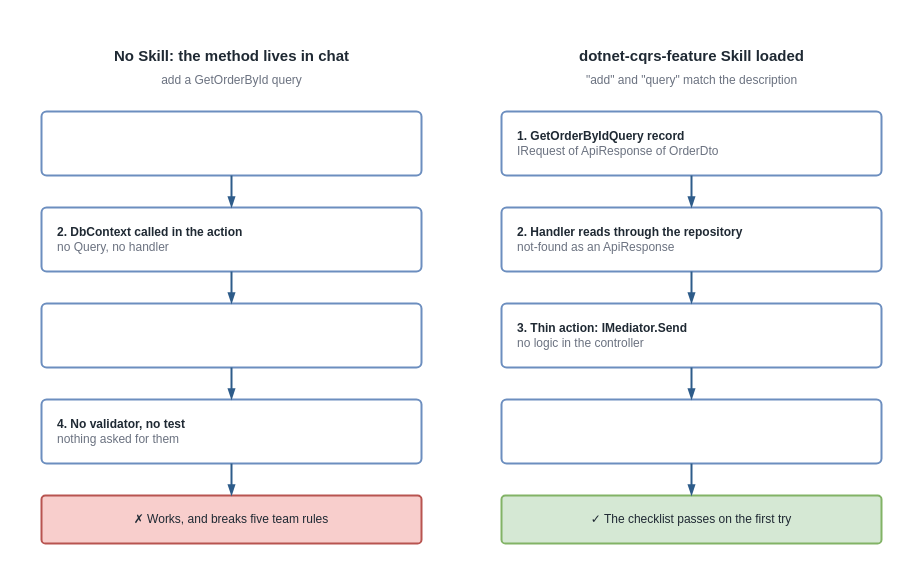
The diagram is 922 pixels wide and 584 high, and some of its shapes have lost their labels. The centre of each missing label's shape, as x and y in pixels:
"1. Copilot writes the controller action the most common ASP.NET shape" belongs at (231,143).
"3. if (order == null) return NotFound() an anonymous object as the body" belongs at (231,335).
"4. xUnit tests, including not-found the checklist asked for them" belongs at (691,431).
